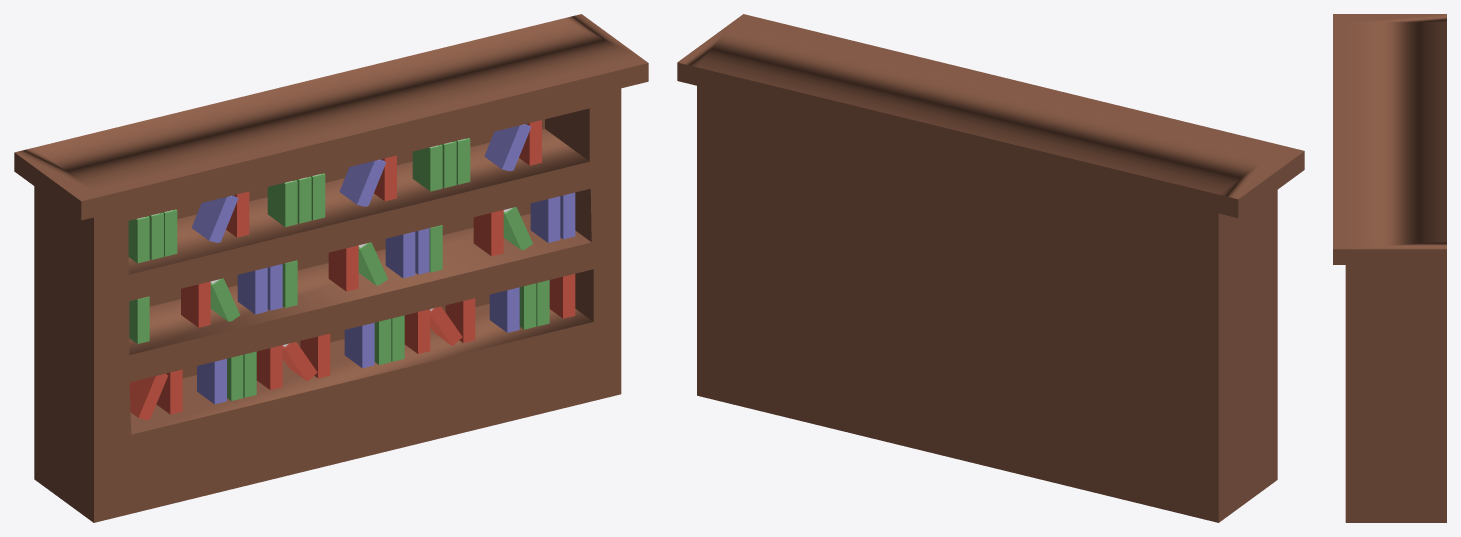
The model's file is maidstage2_booktana2.fbx.
3 views of the same model, side by side, from view 1: azimuth 30°, elevation 25°; view 2: azimuth 150°, elevation 25°; view 3: azimuth 270°, elevation 25° (orthographic). The views are drawn at different scales.
Parts seen in each view (by area): view 1: tana, book.040, book.008, book.024, book.013, book.029, book.006, book.022, book.038, book.004, book.020, book.034 (+24 smaller); view 2: tana; view 3: tana.
Part boxes in pixels (x1,y1,x2,y2): tana: [14, 14, 648, 522]; book.040: [191, 195, 238, 242]; book.008: [339, 159, 385, 206]; book.024: [484, 124, 530, 171]; book.013: [267, 180, 297, 226]; book.029: [412, 144, 442, 191]; book.006: [385, 231, 415, 278]; book.022: [530, 196, 560, 242]; book.038: [237, 267, 267, 314]; book.004: [328, 245, 358, 291]; book.020: [473, 210, 503, 256]; book.034: [129, 373, 167, 420]; tana: [677, 14, 1304, 522]; tana: [1333, 14, 1446, 522].
Size of the model in its own units: 2200 by 1230 by 450.
